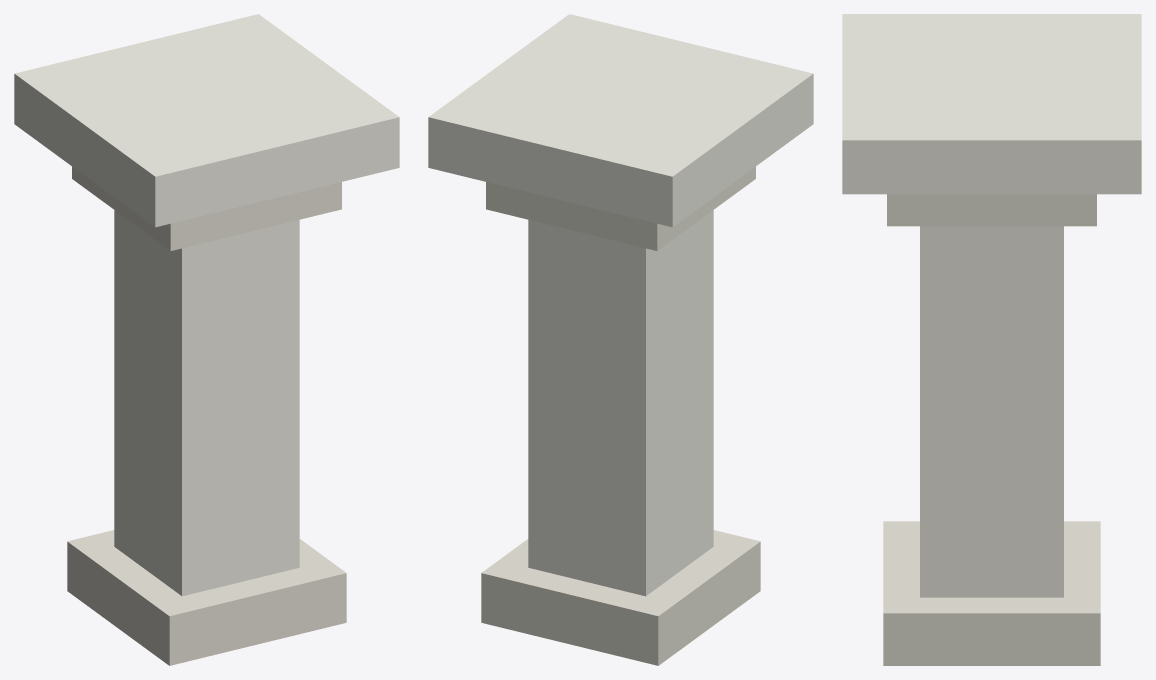
The model's file is pillarSlabs1.glb.
3 views of the same model, side by side, from view 1: azimuth 30°, elevation 25°; view 2: azimuth 150°, elevation 25°; view 3: azimuth 270°, elevation 25° (orthographic). The views are drawn at different scales.
Parts seen in each view (by area): view 1: pillarSlabs1; view 2: pillarSlabs1; view 3: pillarSlabs1.
Boxes of the visible parts, left/top/right/bottom form: pillarSlabs1: left=14, top=14, right=399, bottom=665; pillarSlabs1: left=428, top=14, right=813, bottom=665; pillarSlabs1: left=842, top=14, right=1141, bottom=665.
Bounding box in the file's own units: 0.4453 × 0.8914 × 0.4453.
Materials: 1 (1 with a texture image).
